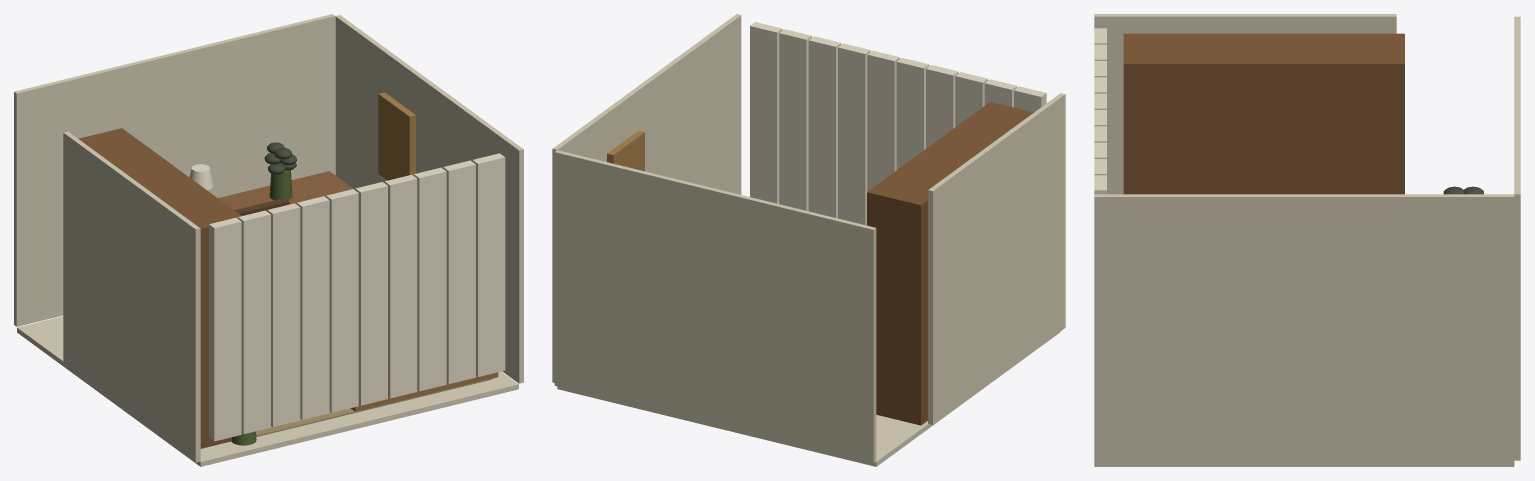
Rendered from room-proxy.glb.
3 views of the same model, side by side, from view 1: azimuth 30°, elevation 25°; view 2: azimuth 150°, elevation 25°; view 3: azimuth 270°, elevation 25° (orthographic). The views are drawn at different scales.
Parts seen in each view (by area): view 1: proxy-back-wall, proxy-left-wall-after-entry, proxy-right-wall, REF-L06-R01-wardrobe-part-1, REF-L06-R01-curtain-part-1, proxy-floor, REF-L06-R01-curtain-part-10, REF-L06-R01-curtain-part-3, REF-L06-R01-curtain-part-2, REF-L06-R01-curtain-part-4, REF-L06-R01-curtain-part-5, REF-L06-R01-curtain-part-6 (+8 smaller); view 2: proxy-back-wall, proxy-left-wall-after-entry, proxy-right-wall, REF-L06-R01-wardrobe-part-1, REF-L06-R01-curtain-part-8, REF-L06-R01-curtain-part-9, REF-L06-R01-curtain-part-10, REF-L06-R01-curtain-part-7, REF-L06-R01-curtain-part-6, REF-L06-R01-curtain-part-5, proxy-floor, REF-L06-R01-curtain-part-4 (+4 smaller); view 3: proxy-right-wall, REF-L06-R01-wardrobe-part-1, proxy-left-wall-after-entry, proxy-back-wall, proxy-floor.
Boxes of the visible parts, x1=… form: proxy-back-wall: x1=14, y1=14, x2=334, y2=326; proxy-left-wall-after-entry: x1=63, y1=131, x2=200, y2=462; proxy-right-wall: x1=335, y1=15, x2=523, y2=383; REF-L06-R01-wardrobe-part-1: x1=78, y1=128, x2=241, y2=448; REF-L06-R01-curtain-part-1: x1=209, y1=217, x2=241, y2=441; proxy-floor: x1=17, y1=316, x2=518, y2=466; REF-L06-R01-curtain-part-10: x1=472, y1=153, x2=505, y2=376; REF-L06-R01-curtain-part-3: x1=267, y1=203, x2=300, y2=426; REF-L06-R01-curtain-part-2: x1=238, y1=210, x2=270, y2=434; REF-L06-R01-curtain-part-4: x1=296, y1=196, x2=329, y2=419; REF-L06-R01-curtain-part-5: x1=326, y1=189, x2=358, y2=412; REF-L06-R01-curtain-part-6: x1=355, y1=182, x2=387, y2=405; proxy-back-wall: x1=554, y1=150, x2=876, y2=463; proxy-left-wall-after-entry: x1=928, y1=93, x2=1065, y2=424; proxy-right-wall: x1=552, y1=14, x2=741, y2=382; REF-L06-R01-wardrobe-part-1: x1=867, y1=102, x2=1033, y2=425; REF-L06-R01-curtain-part-8: x1=808, y1=36, x2=841, y2=218; REF-L06-R01-curtain-part-9: x1=779, y1=29, x2=811, y2=211; REF-L06-R01-curtain-part-10: x1=750, y1=22, x2=782, y2=203; REF-L06-R01-curtain-part-7: x1=838, y1=43, x2=870, y2=225; REF-L06-R01-curtain-part-6: x1=867, y1=50, x2=899, y2=191; REF-L06-R01-curtain-part-5: x1=896, y1=57, x2=929, y2=169; proxy-floor: x1=557, y1=331, x2=1060, y2=466; REF-L06-R01-curtain-part-4: x1=926, y1=65, x2=958, y2=148; proxy-right-wall: x1=1094, y1=194, x2=1514, y2=463; REF-L06-R01-wardrobe-part-1: x1=1123, y1=33, x2=1404, y2=194; proxy-left-wall-after-entry: x1=1094, y1=14, x2=1396, y2=194; proxy-back-wall: x1=1514, y1=16, x2=1520, y2=460; proxy-floor: x1=1094, y1=463, x2=1514, y2=466.
Size of the model in its own units: 1.03 by 0.7165 by 1.02.
